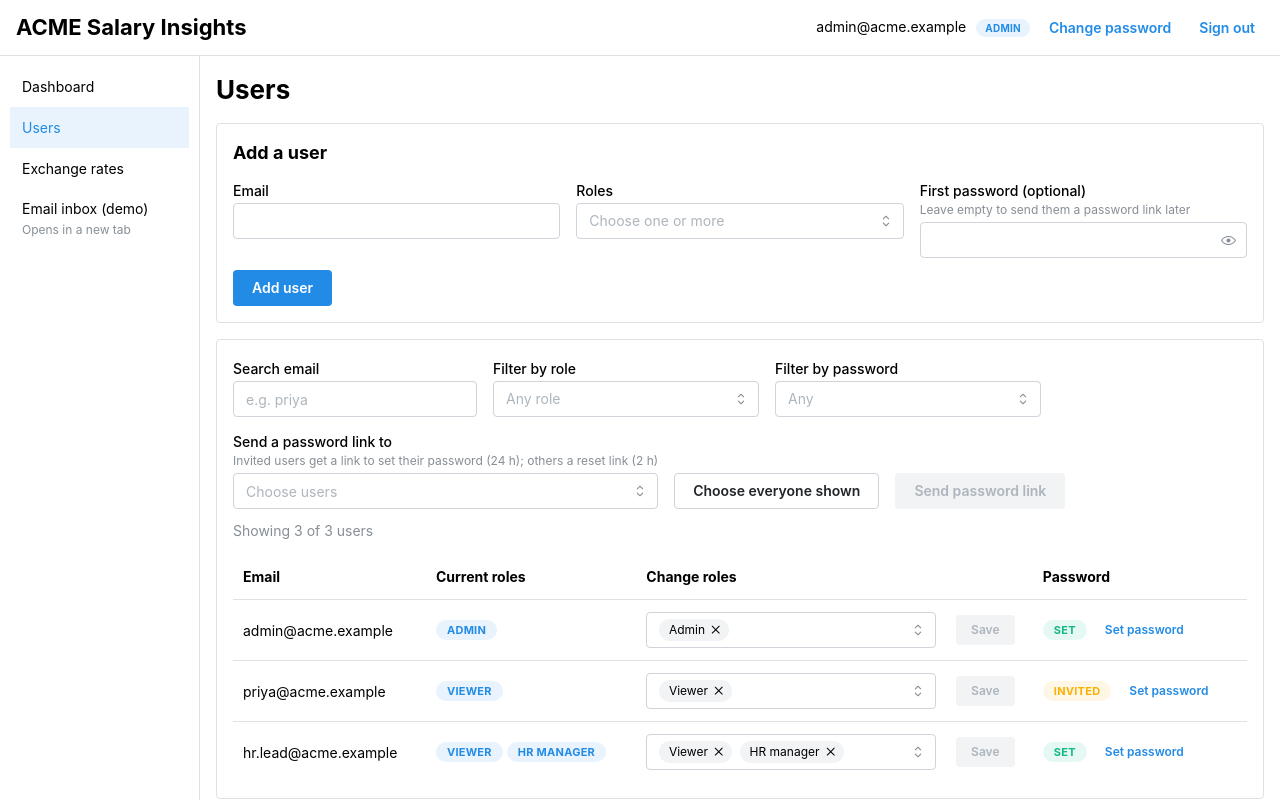
Users (admin) › changes a user’s roles with the multi-select and saves
Expected: the button "Save" in the row of "priya@acme.example" is disabled, [956,676,1014,706]
Click the field named "Roles for priya@acme.example". click: [696, 691]
box: [659,680,732,702]
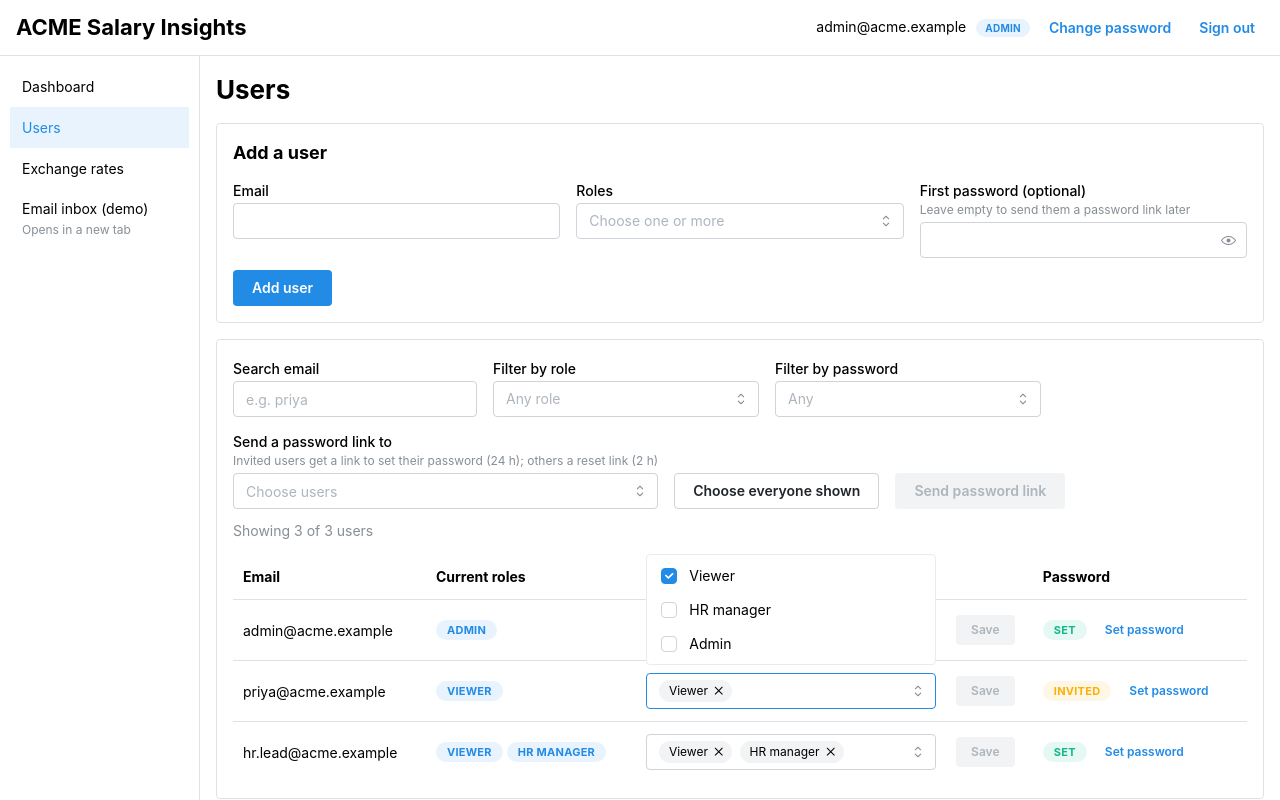
Click the option "HR manager". click: [716, 610]
box: [661,601,771,618]
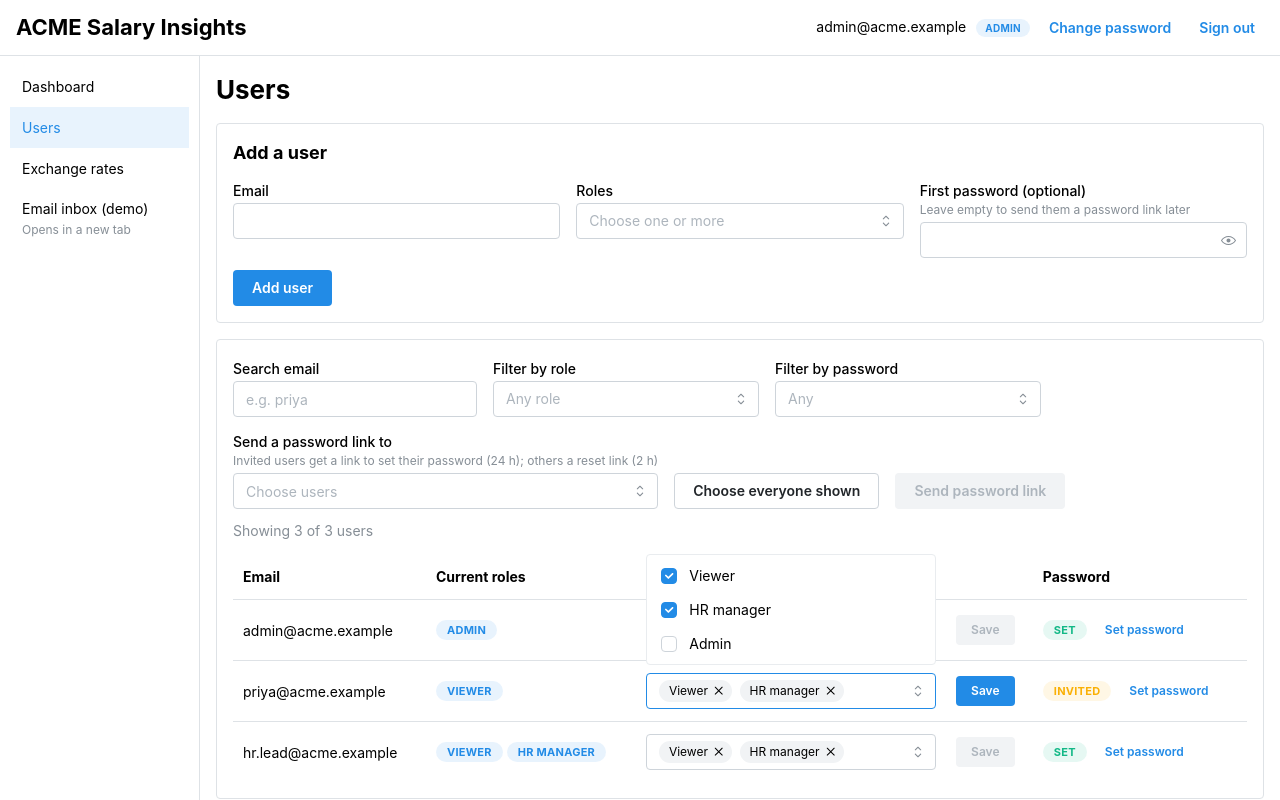
Press Escape
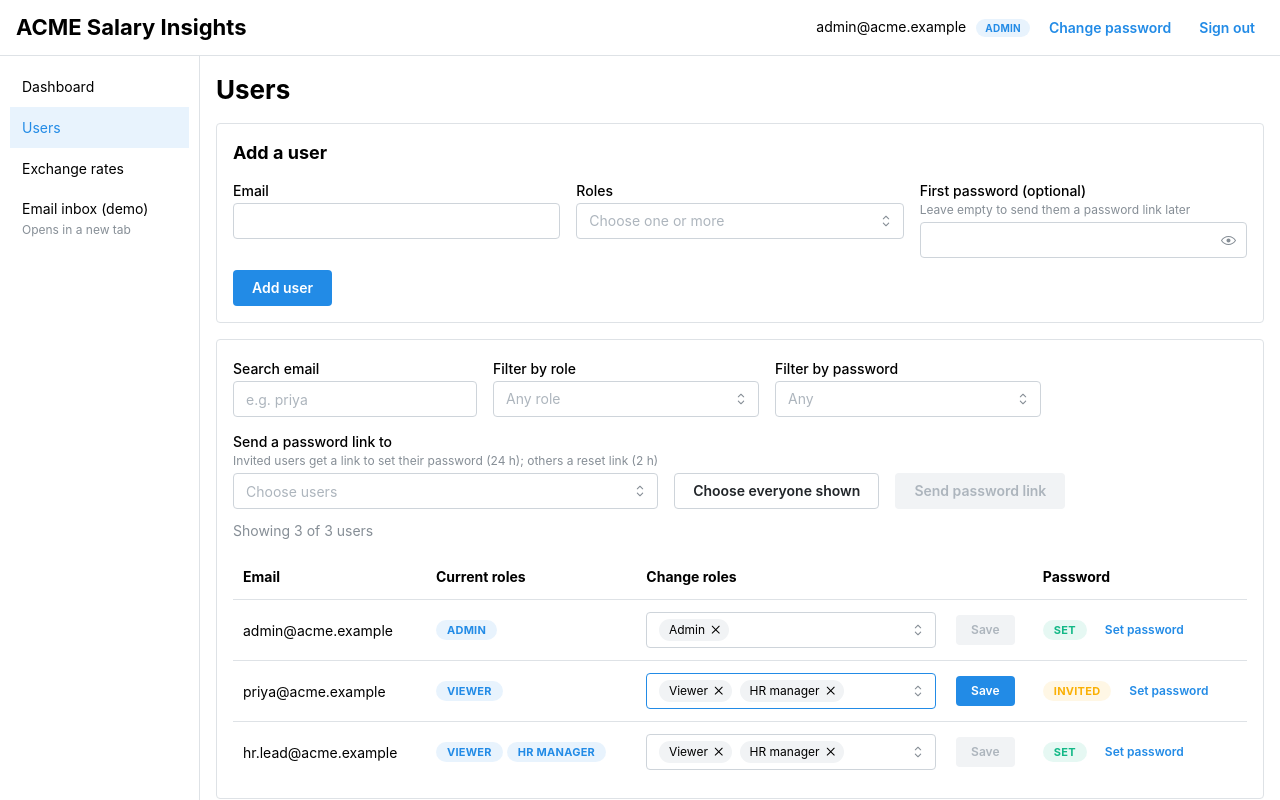
Click the button "Save" in the row of "priya@acme.example". click: [985, 691]
box: [956,676,1014,706]
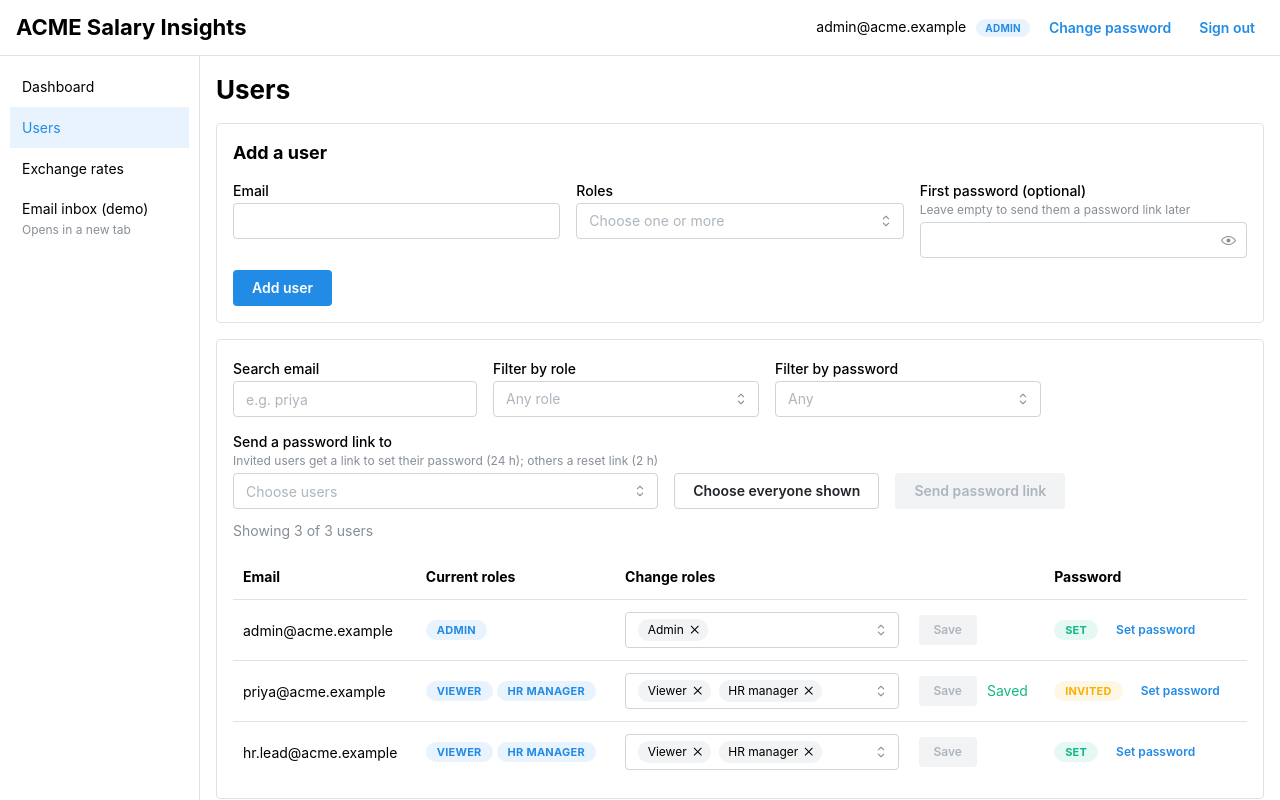
Now the text "Saved" is shown, box [987,681,1028,702]
